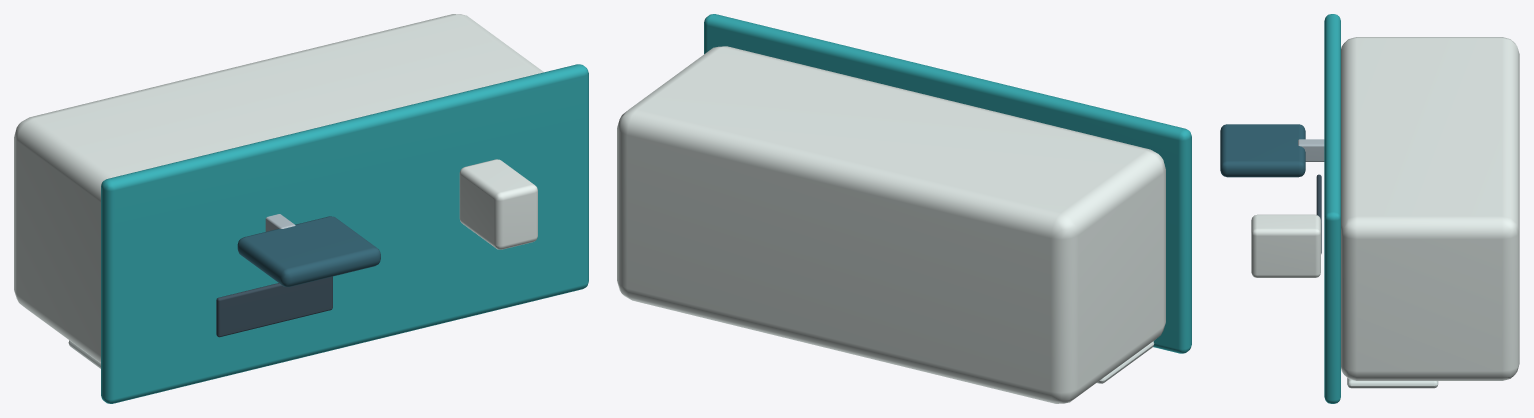
File: hero_nurse_desk.glb
The picture shows the model from 3 angles, left to right: view 1: azimuth 30°, elevation 25°; view 2: azimuth 150°, elevation 25°; view 3: azimuth 270°, elevation 25°; orthographic projection. The views are drawn at different scales.
Parts seen in each view (by area): view 1: Nurse desk worktop, Nurse desk plinth, Monitor panel, Nurse desk task terminal, Keyboard; view 2: Nurse desk plinth, Nurse desk worktop; view 3: Nurse desk plinth, Nurse desk worktop, Monitor panel, Nurse desk task terminal, Front reception panel, Monitor pedestal, Keyboard.
Part boxes in pixels (x1=…): Nurse desk worktop: x1=101, y1=64, x2=588, y2=403; Nurse desk plinth: x1=14, y1=14, x2=543, y2=362; Monitor panel: x1=237, y1=216, x2=380, y2=286; Nurse desk task terminal: x1=459, y1=159, x2=537, y2=249; Keyboard: x1=216, y1=276, x2=332, y2=337; Nurse desk plinth: x1=617, y1=46, x2=1165, y2=403; Nurse desk worktop: x1=704, y1=14, x2=1191, y2=353; Nurse desk plinth: x1=1341, y1=37, x2=1519, y2=380; Nurse desk worktop: x1=1324, y1=14, x2=1340, y2=403; Monitor panel: x1=1220, y1=124, x2=1305, y2=177; Nurse desk task terminal: x1=1251, y1=214, x2=1320, y2=277; Front reception panel: x1=1347, y1=378, x2=1438, y2=388; Monitor pedestal: x1=1298, y1=139, x2=1324, y2=161; Keyboard: x1=1316, y1=174, x2=1321, y2=253.
Bounding box in the file's own units: 2.48 × 1.09 × 1.55.
